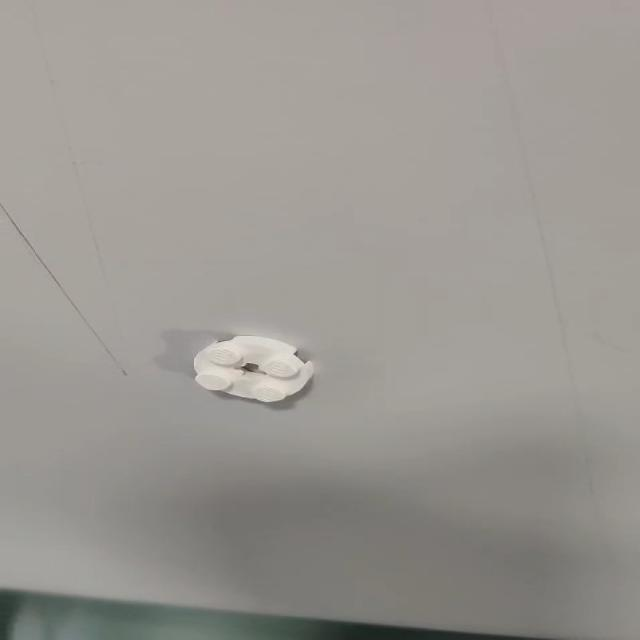S2x2x0: (190, 333, 315, 403)
